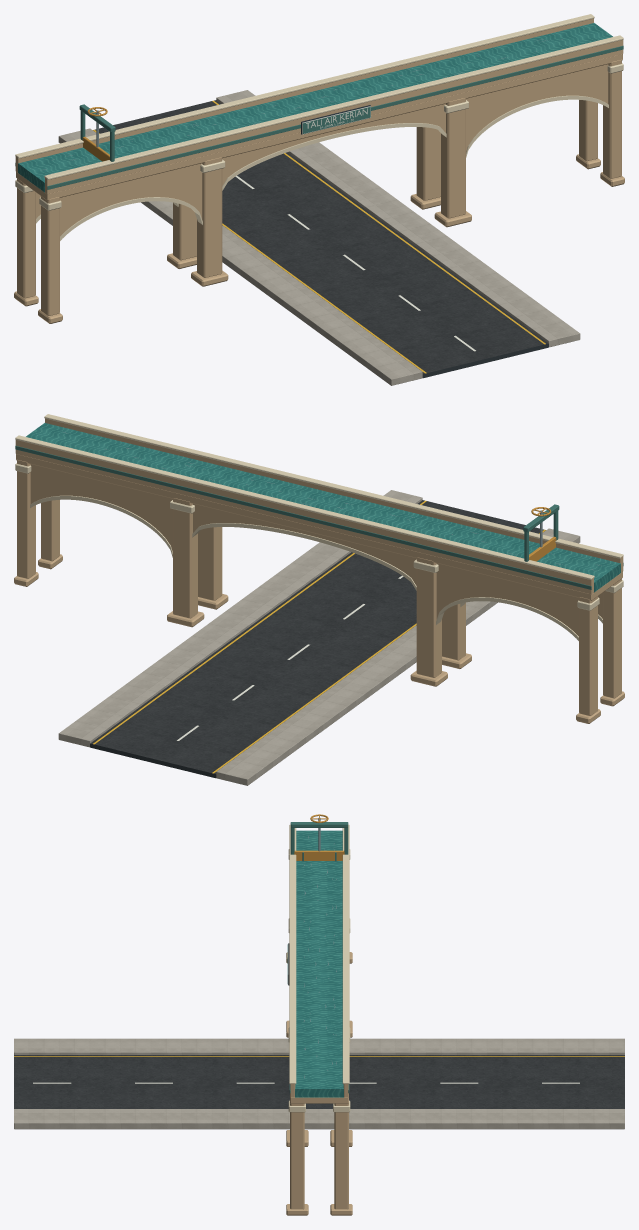
3 views of the same model, one above another, from view 1: azimuth 30°, elevation 25°; view 2: azimuth 150°, elevation 25°; view 3: azimuth 270°, elevation 25° (orthographic). The views are drawn at different scales.
Parts seen in each view (by area): view 1: Running course, Walkway, Stepped pilasters, Open water surface, Arcade spandrels, Channel walls, Coping tiles, Flume invert, Arch archivolts, Glazed string course, Arcade spread feet, Edge lines (+2 smaller); view 2: Running course, Walkway, Stepped pilasters, Open water surface, Arcade spandrels, Channel walls, Coping tiles, Flume invert, Glazed string course, Arch archivolts, Arcade spread feet, Edge lines (+1 smaller); view 3: Running course, Walkway, Open water surface, Coping tiles, Stepped pilasters, Arcade spread feet, Edge lines.
Part boxes in pixels (x1,y1,x2,y2): Running course: (93, 100, 548, 378); Walkway: (58, 90, 580, 385); Stepped pilasters: (17, 59, 621, 315); Open water surface: (18, 23, 612, 192); Arcade spandrels: (36, 64, 608, 236); Channel walls: (15, 18, 623, 194); Coping tiles: (15, 14, 623, 179); Flume invert: (16, 54, 622, 200); Arch archivolts: (36, 95, 608, 240); Glazed string course: (15, 45, 623, 189); Arcade spread feet: (14, 154, 624, 323); Edge lines: (93, 100, 545, 373); Running course: (90, 500, 545, 778); Walkway: (58, 490, 580, 785); Stepped pilasters: (17, 459, 621, 715); Open water surface: (26, 423, 620, 592); Arcade spandrels: (30, 464, 602, 636); Channel walls: (15, 418, 623, 594); Coping tiles: (15, 414, 623, 579); Flume invert: (16, 454, 622, 600); Glazed string course: (15, 445, 623, 589); Arch archivolts: (30, 495, 602, 640); Arcade spread feet: (14, 554, 624, 723); Edge lines: (93, 500, 545, 773); Running course: (14, 1055, 624, 1108); Walkway: (14, 1038, 624, 1129); Open water surface: (295, 830, 343, 1097); Coping tiles: (289, 824, 349, 1084); Stepped pilasters: (290, 1093, 348, 1209); Arcade spread feet: (286, 952, 352, 1215); Edge lines: (14, 1056, 624, 1056).
Size of the model in its own units: 32 by 9.8 by 32.
Materials: 13 (3 with a texture image).
